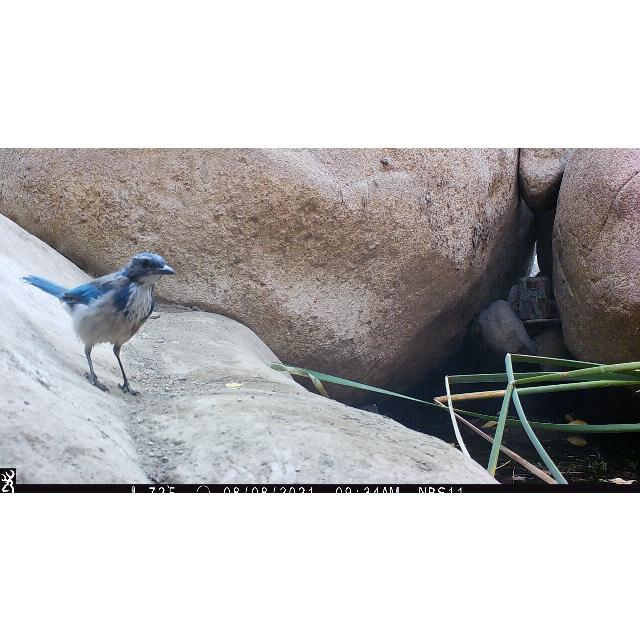animals: (20, 252, 178, 398)
